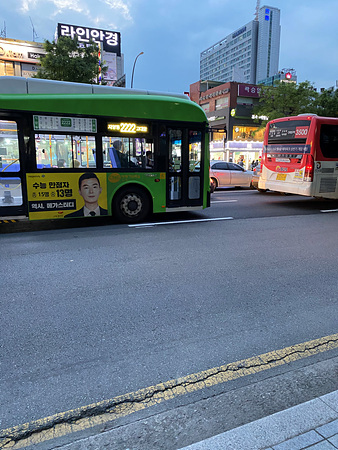entrance: (163, 120, 206, 218)
